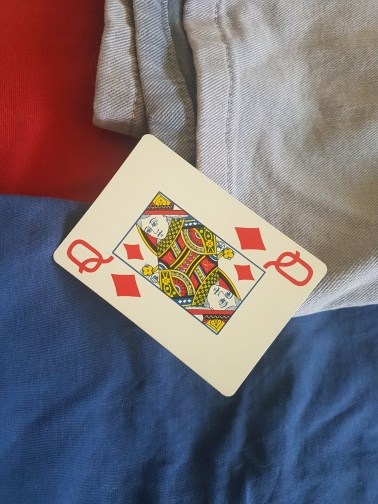queen: (53, 133, 328, 394)
